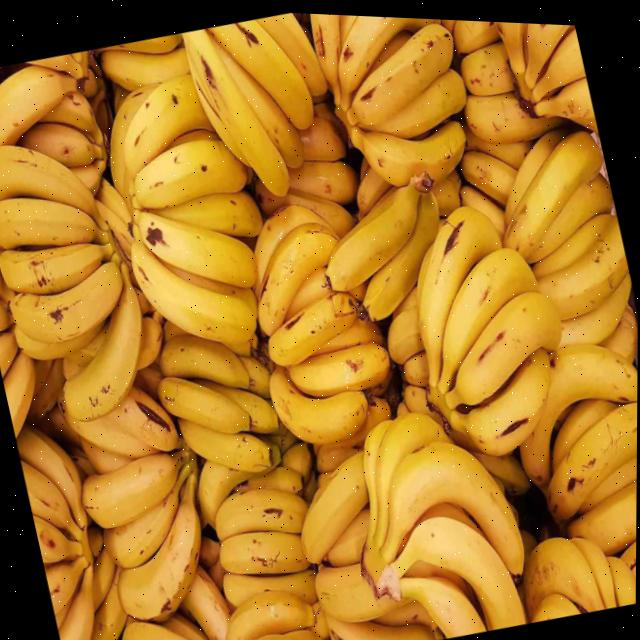Banana: (381, 436, 524, 568), (439, 242, 539, 389), (445, 285, 562, 403), (131, 237, 256, 341), (209, 16, 313, 126), (346, 18, 453, 122), (123, 72, 212, 176), (0, 144, 106, 230), (258, 218, 337, 332), (134, 136, 246, 206), (269, 362, 368, 440), (301, 448, 369, 560), (350, 116, 465, 182), (0, 196, 109, 249), (157, 373, 251, 431)
